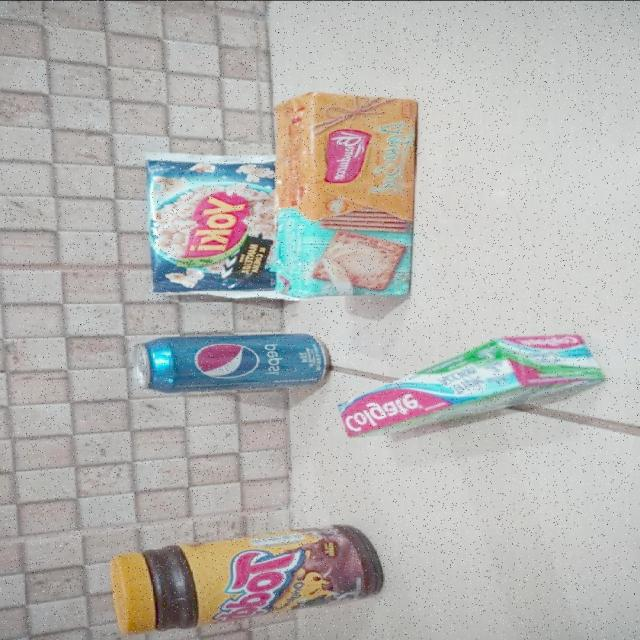ChocolatePowder: (109, 524, 382, 635)
Cracker: (273, 90, 415, 298)
Popcorn: (141, 150, 273, 299)
SodaCan: (129, 329, 326, 393)
Toothpaste: (336, 337, 599, 440)
